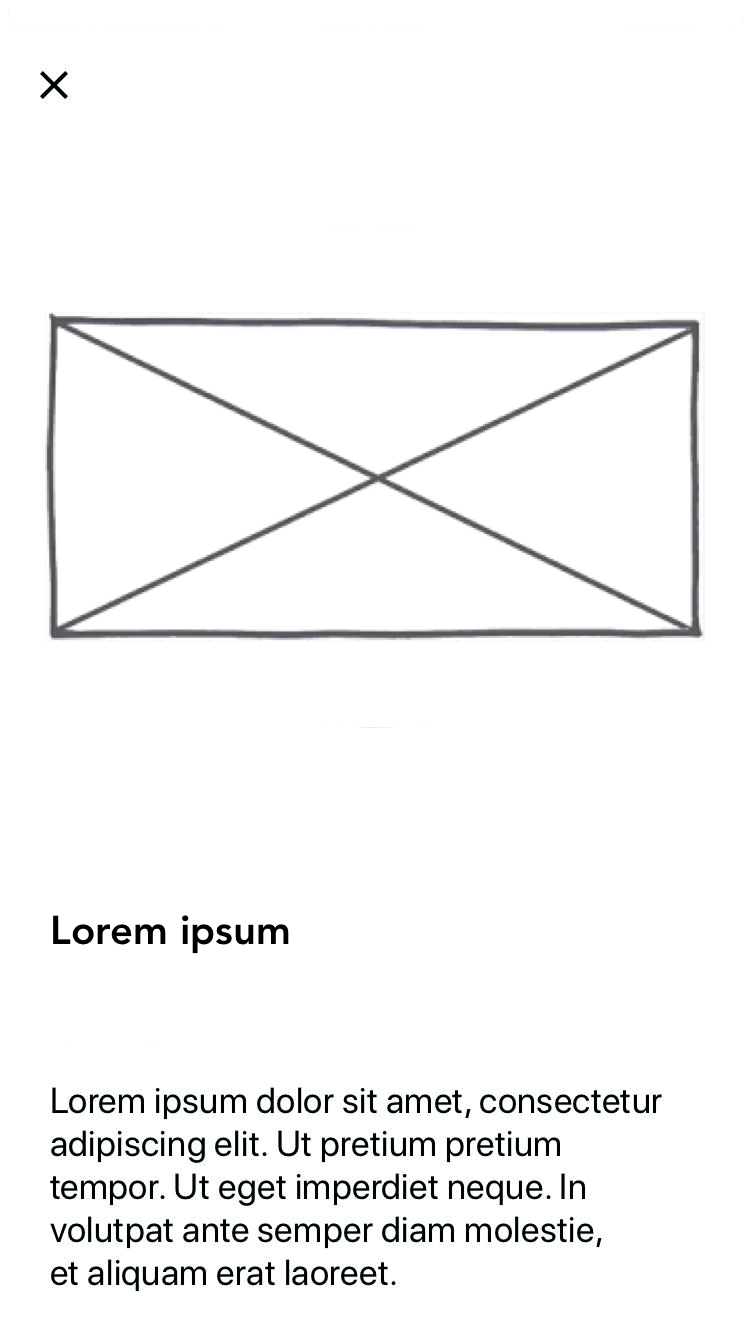Icon: (40, 71, 70, 101)
Image: (45, 314, 703, 641)
Text: (49, 1087, 664, 1293), (53, 914, 291, 954)
